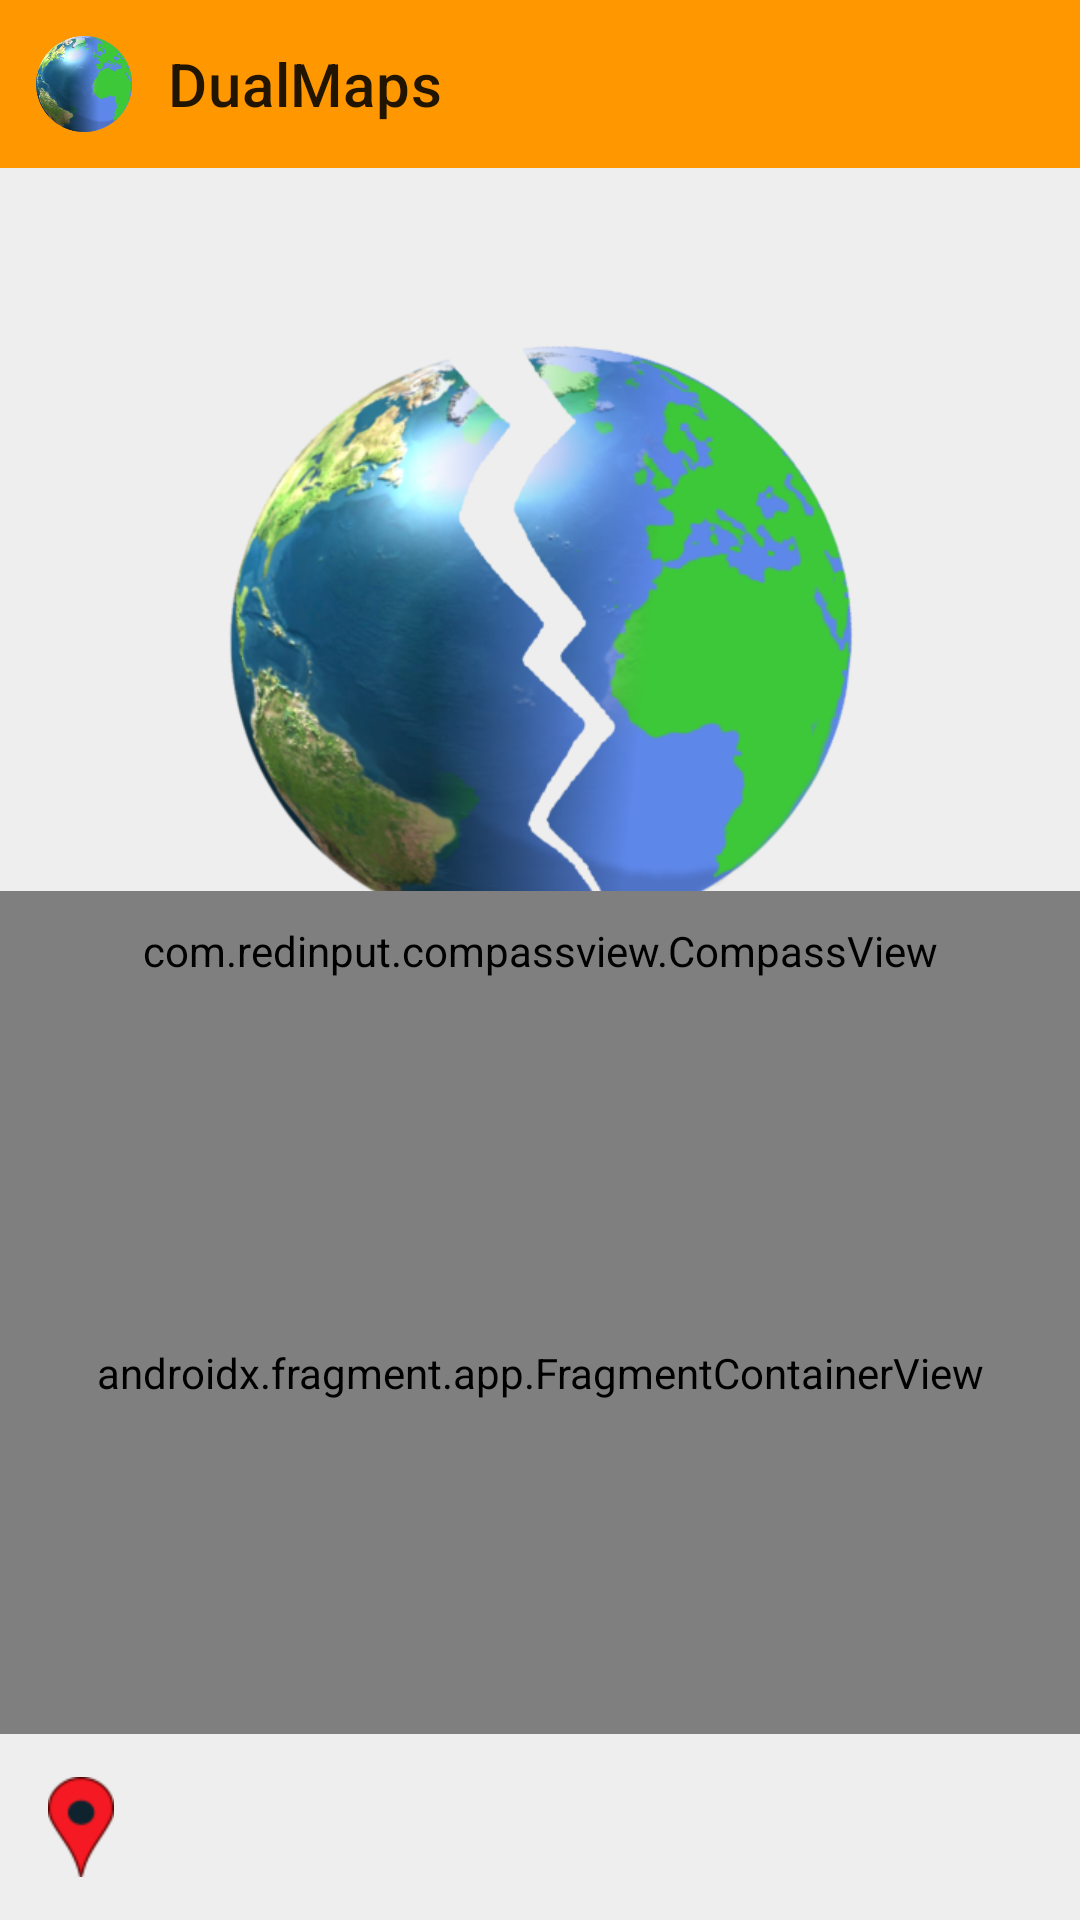

Screen size 1080*1920. Icon name, then its center in pixels as (x=x, y=y):
marker icon: (x=81, y=1827)
